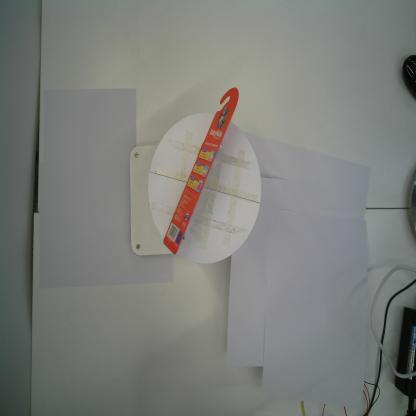Personal Hygiene: (162, 87, 240, 256)
